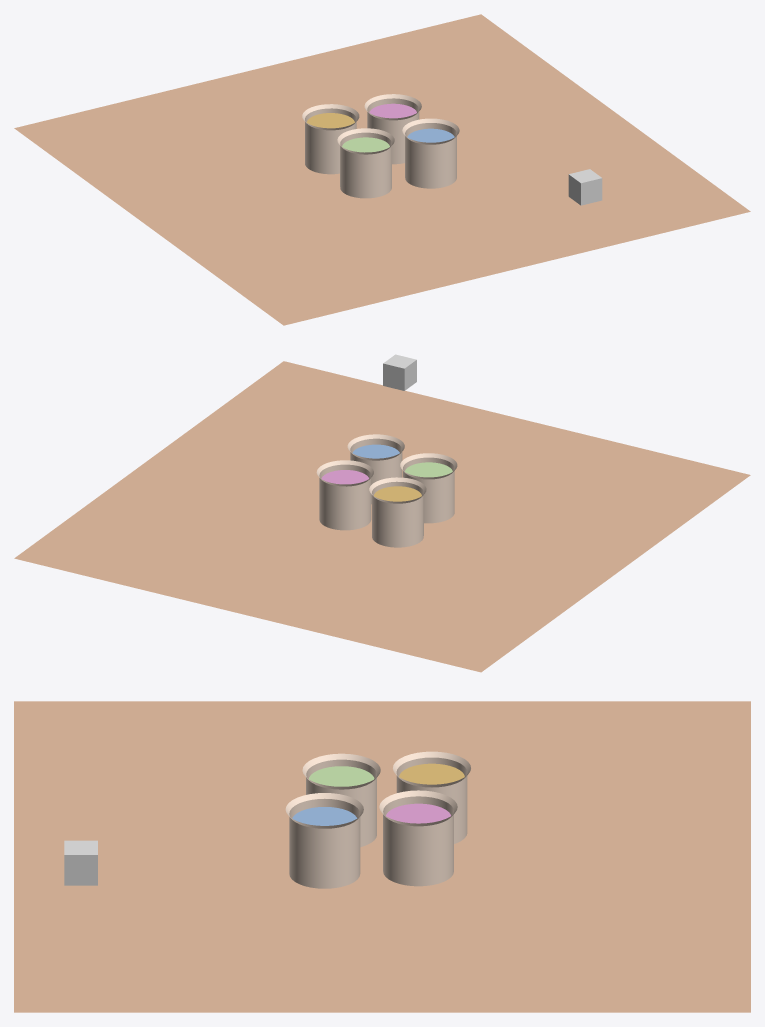
The model's file is bea.glb.
3 views of the same model, one above another, from view 1: azimuth 30°, elevation 25°; view 2: azimuth 150°, elevation 25°; view 3: azimuth 270°, elevation 25° (orthographic). The views are drawn at different scales.
Parts seen in each view (by area): view 1: Plane, Beaker.001, Beaker.002, Beaker, Beaker.003, Cube, Liquid, Liquid.002, Liquid.003, Liquid.001; view 2: Plane, Beaker.003, Beaker, Beaker.002, Beaker.001, Cube, Liquid, Liquid.002, Liquid.003; view 3: Plane, Beaker.001, Beaker.003, Beaker.002, Beaker, Cube, Liquid, Liquid.002, Liquid.003, Liquid.001.
Boxes of the visible parts, x1,y1,x2,y2 form: Plane: (14, 14, 750, 325); Beaker.001: (402, 118, 459, 188); Beaker.002: (337, 128, 394, 198); Beaker: (302, 104, 359, 174); Beaker.003: (364, 94, 421, 164); Cube: (568, 169, 602, 205); Liquid: (306, 113, 354, 128); Liquid.002: (342, 137, 389, 152); Liquid.003: (369, 103, 416, 118); Liquid.001: (407, 128, 454, 142); Plane: (14, 361, 750, 672); Beaker.003: (316, 460, 373, 530); Beaker: (369, 477, 426, 547); Beaker.002: (400, 453, 457, 523); Beaker.001: (347, 434, 404, 504); Cube: (383, 354, 416, 390); Liquid: (374, 486, 421, 501); Liquid.002: (404, 462, 452, 477); Liquid.003: (321, 470, 368, 484); Plane: (14, 701, 750, 1012); Beaker.001: (285, 793, 363, 888); Beaker.003: (379, 790, 457, 886); Beaker.002: (302, 753, 380, 847); Beaker: (393, 751, 470, 843); Cube: (64, 840, 97, 885); Liquid: (399, 763, 464, 784); Liquid.002: (309, 766, 374, 786); Liquid.003: (386, 803, 450, 823); Liquid.001: (292, 807, 357, 825).
Size of the model in its own units: 20.76 by 2.2 by 20.76.
